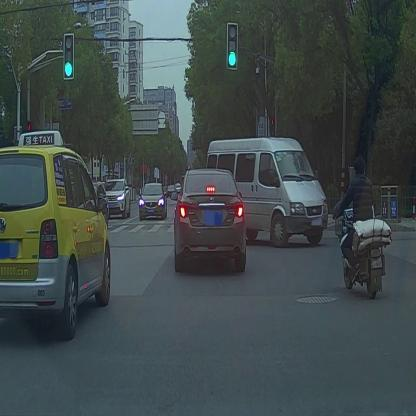Green Light: (227, 22, 238, 70), (64, 31, 74, 82)
